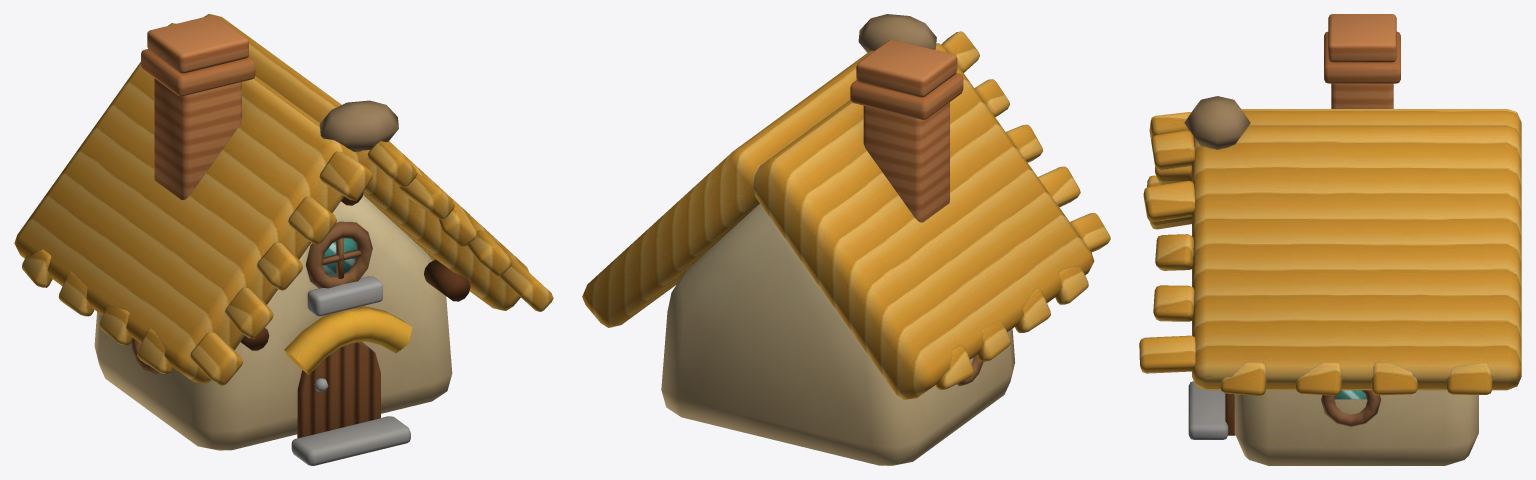
File: hut_3_mid.glb
The picture shows the model from 3 angles, left to right: view 1: azimuth 30°, elevation 25°; view 2: azimuth 150°, elevation 25°; view 3: azimuth 270°, elevation 25°; orthographic projection. The views are drawn at different scales.
Parts seen in each view (by area): view 1: hut_3; view 2: hut_3; view 3: hut_3.
Boxes of the visible parts, x1,y1,x2,y2 form: hut_3: (14, 14, 553, 465); hut_3: (582, 14, 1110, 465); hut_3: (1139, 14, 1521, 465).
Bounding box in the file's own units: 1.45 × 1.38 × 1.35.
1 material, 1 textured.
